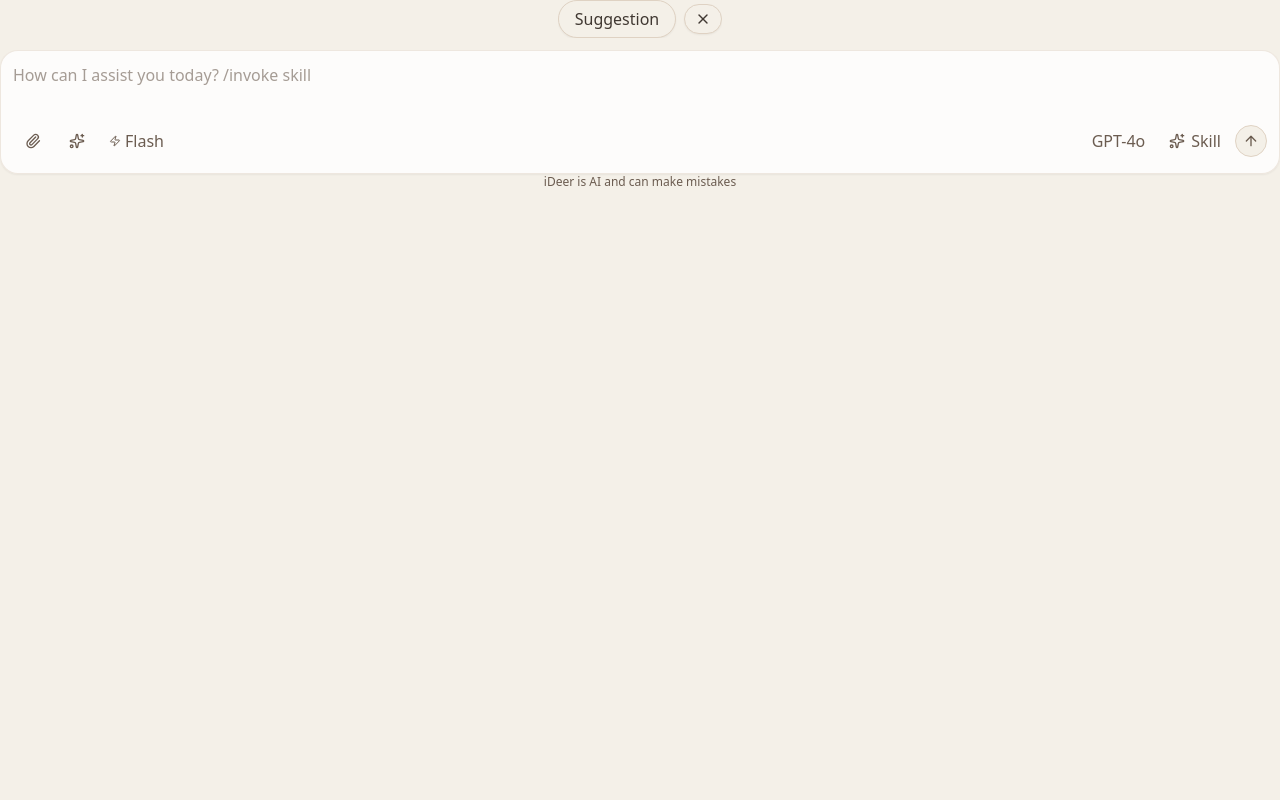
Test: InputBox › confirmation dialog › cancel button closes dialog without changing input
Click the button "Suggestion" at (617, 19), box [558,0,676,38]
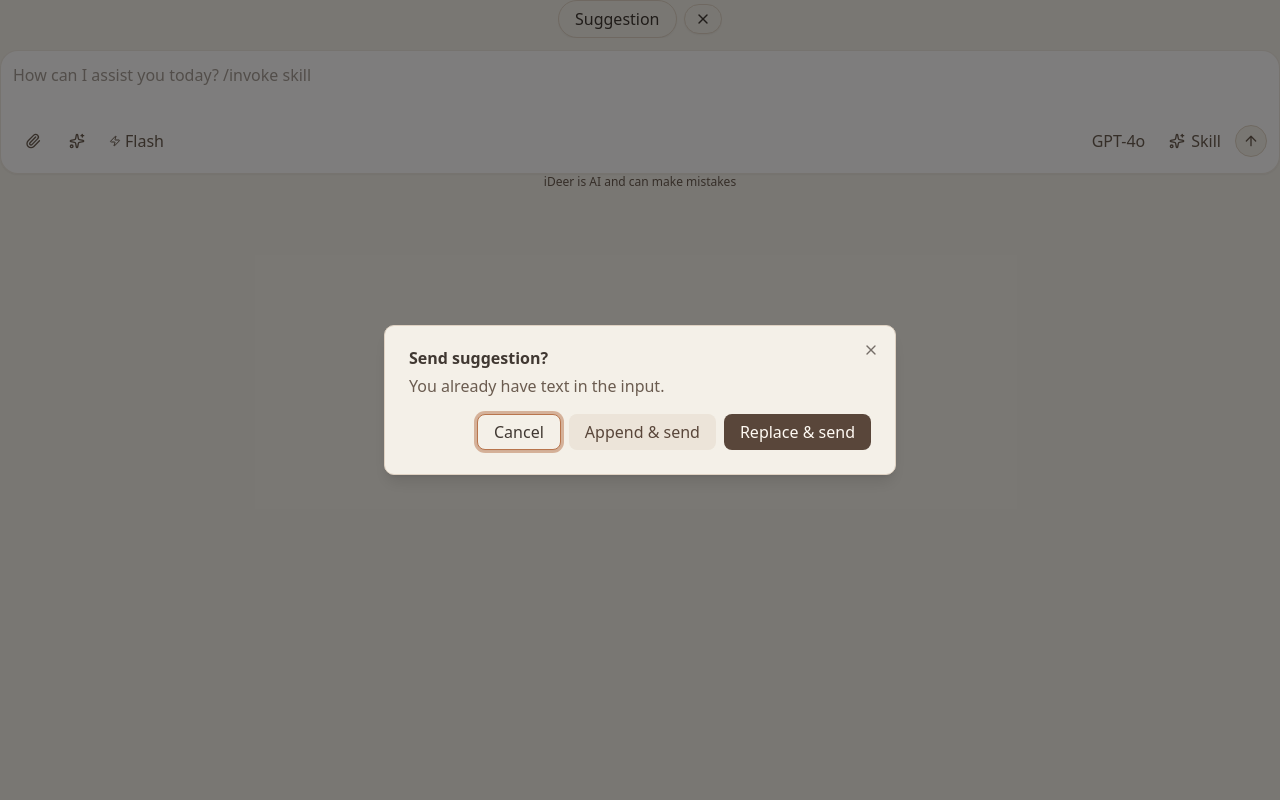
Expected: the heading "Send suggestion?" is shown, [409,347,548,369]
Click the button "Cancel" at (519, 432), box [477,414,561,450]
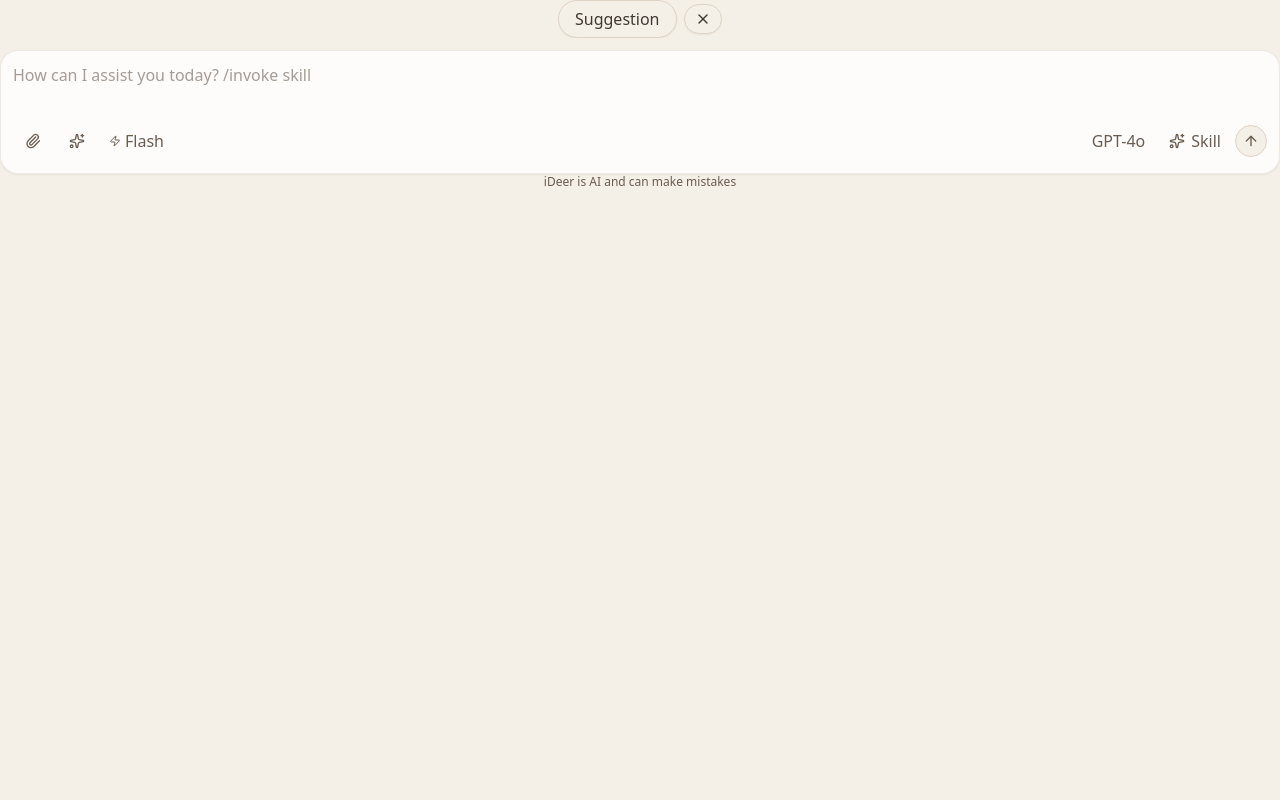
Expected: the heading "Send suggestion?" is gone
